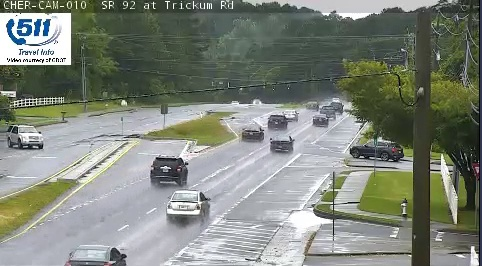car: (66, 245, 127, 266), (167, 190, 209, 219), (151, 158, 187, 182), (269, 135, 293, 151), (242, 125, 264, 141), (269, 115, 286, 129), (320, 106, 335, 118), (282, 110, 297, 122), (312, 116, 328, 126)
